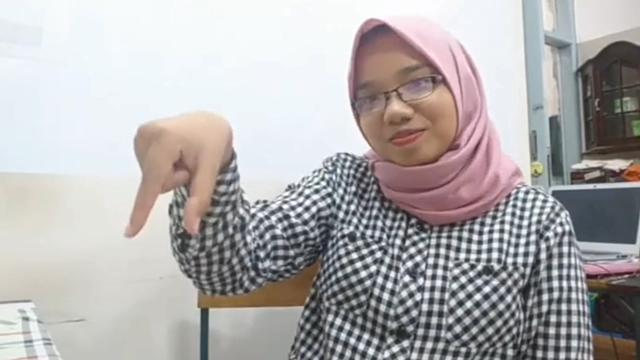Q: (120, 104, 234, 244)
